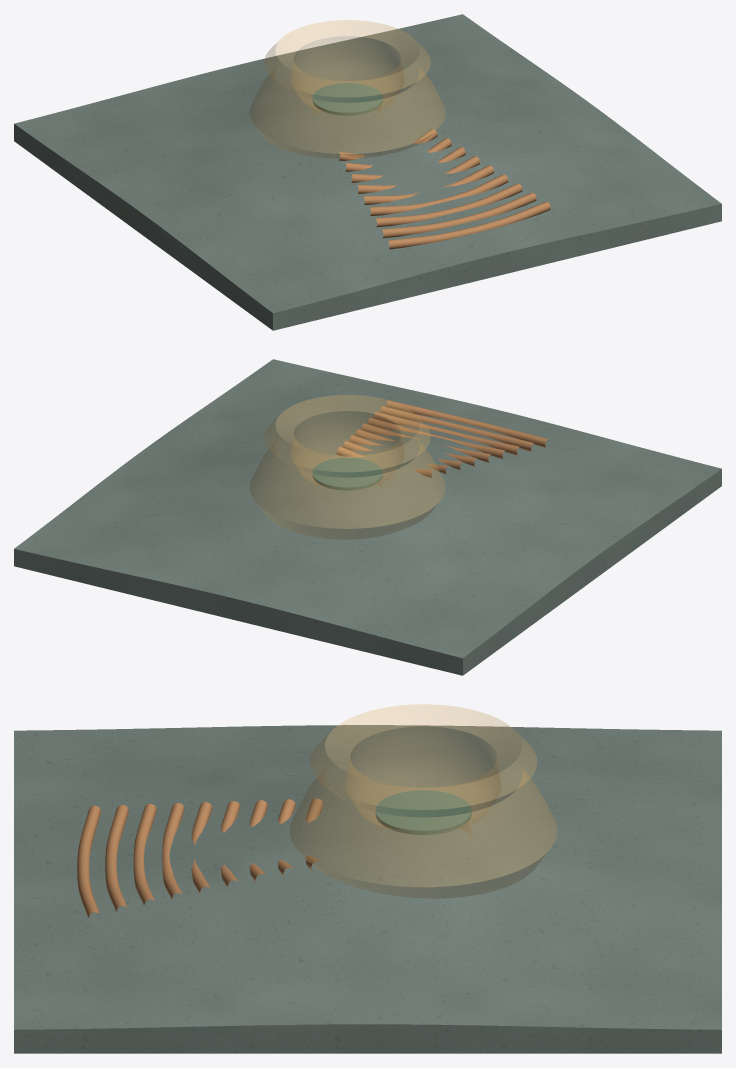
Rendered from bellroot-fen-floodward-marches-mireglass-mineral-vent-4f9d91e8.glb.
3 renders of one model, top to bottom at view 1: azimuth 30°, elevation 25°; view 2: azimuth 150°, elevation 25°; view 3: azimuth 270°, elevation 25°, orthographic. The views are drawn at different scales.
Visible parts, largest first — view 1: mireglass-mineral-vent; view 2: mireglass-mineral-vent; view 3: mireglass-mineral-vent.
Part boxes in pixels (x1=…): mireglass-mineral-vent: x1=14, y1=14, x2=721, y2=330; mireglass-mineral-vent: x1=14, y1=359, x2=721, y2=675; mireglass-mineral-vent: x1=14, y1=704, x2=721, y2=1053.
Size of the model in its own units: 2.8 by 0.69 by 2.8.
4 materials, 1 textured.
